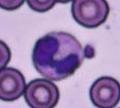N: (32, 31, 84, 79)
